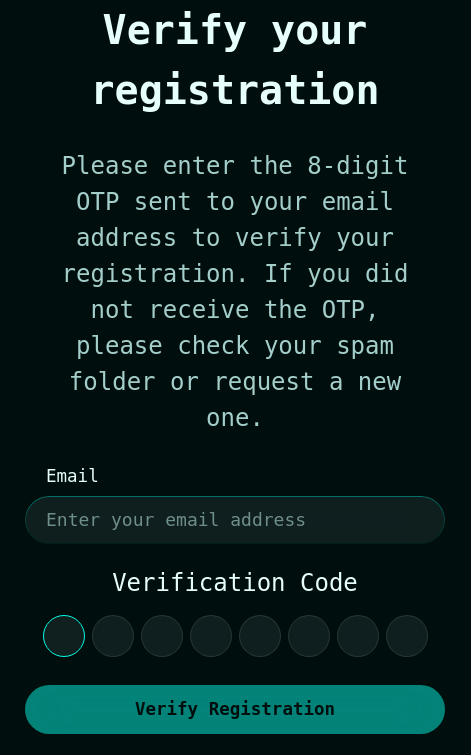
Test case: VerifyRegistrationPage › displays error when writing a non-registered email upon blur or debounce
The width and height of the screenshot is (471, 755).
Type "not_registered_user@example.com" into the field with placeholder "Enter your email address" at (235, 520), box [46,506,424,533]
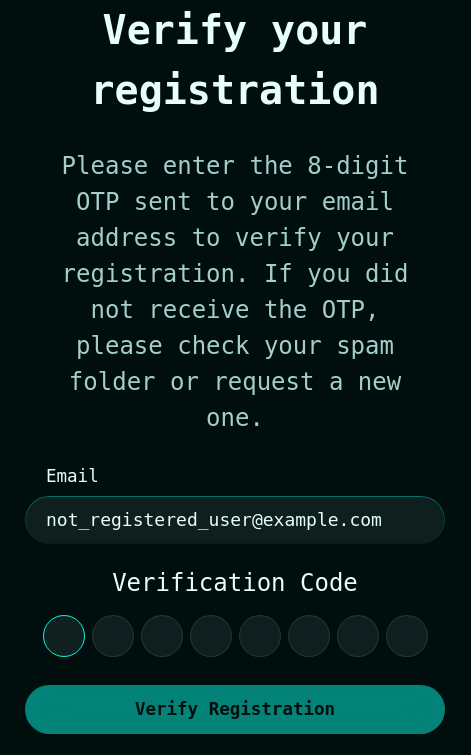
Leave the field with placeholder "Enter your email address", box [46,506,424,533]
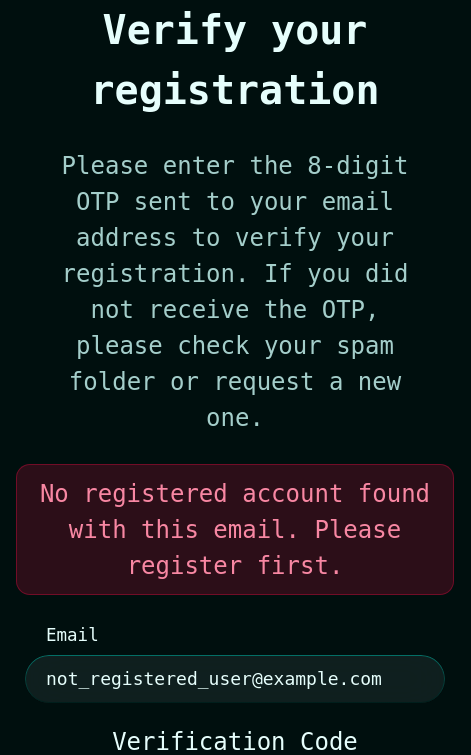
Check: the message shows "No registered account found with this email", box [40,480,430,580]
